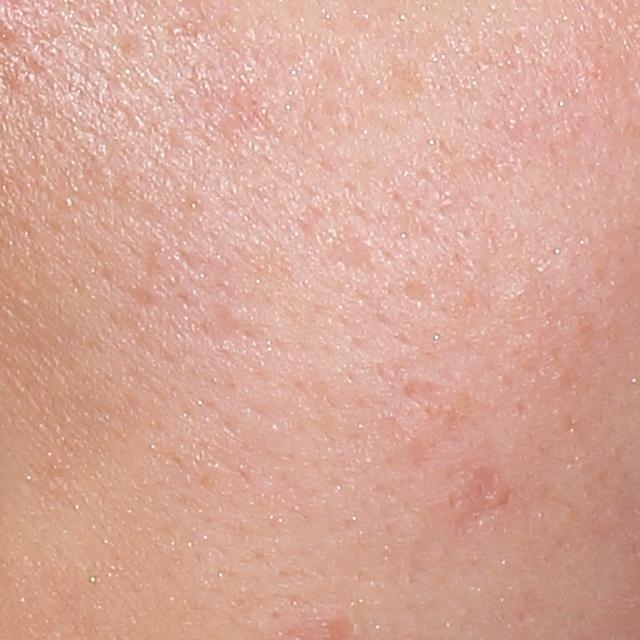atrophic_scar: (447, 465, 504, 533), (320, 218, 379, 276), (398, 377, 455, 427), (402, 275, 441, 310)
